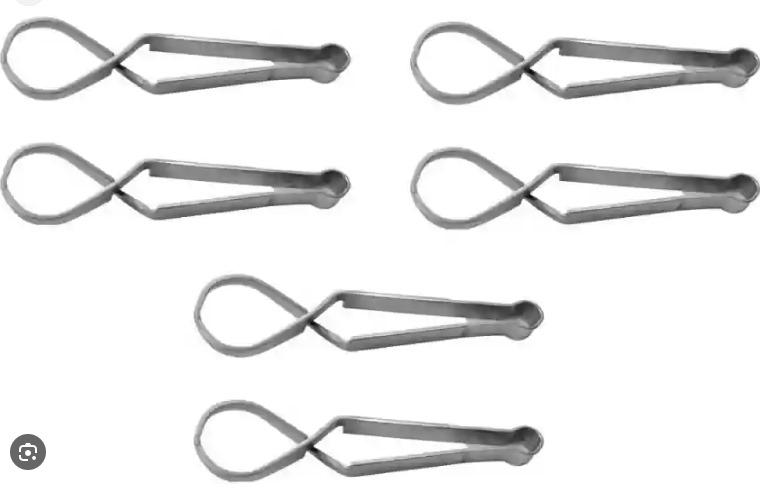Doyen Cross Action Towel Clamp: (0, 137, 359, 229), (191, 394, 546, 486), (407, 142, 759, 233), (195, 270, 550, 360), (1, 8, 354, 95), (406, 21, 758, 107)
